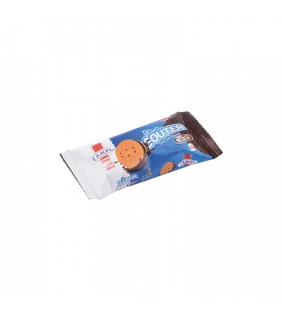CAMPI PLUS: (52, 99, 229, 213)
